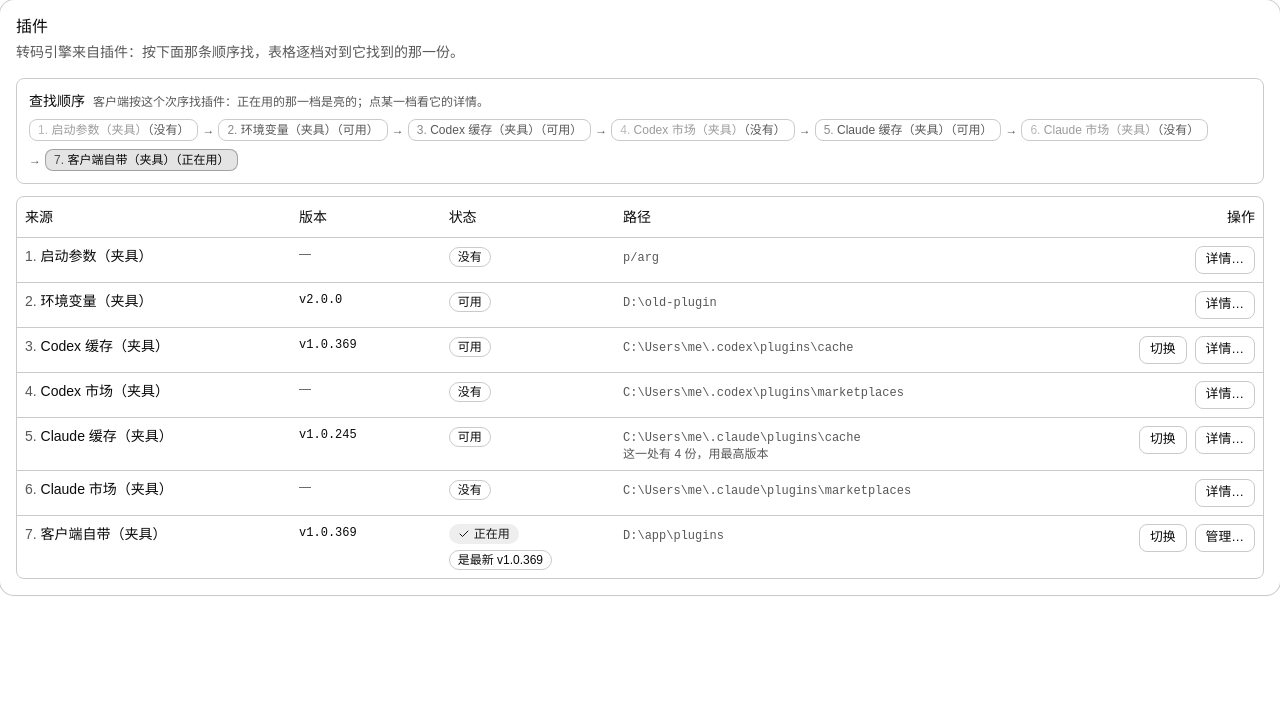
it: PluginCard › 「更新来源」在自带那一行的管理面板里，点「修改发布源」开的是插件这一半的弹窗
Click the button "管理…": point(1225, 538) [1195,524,1255,552]
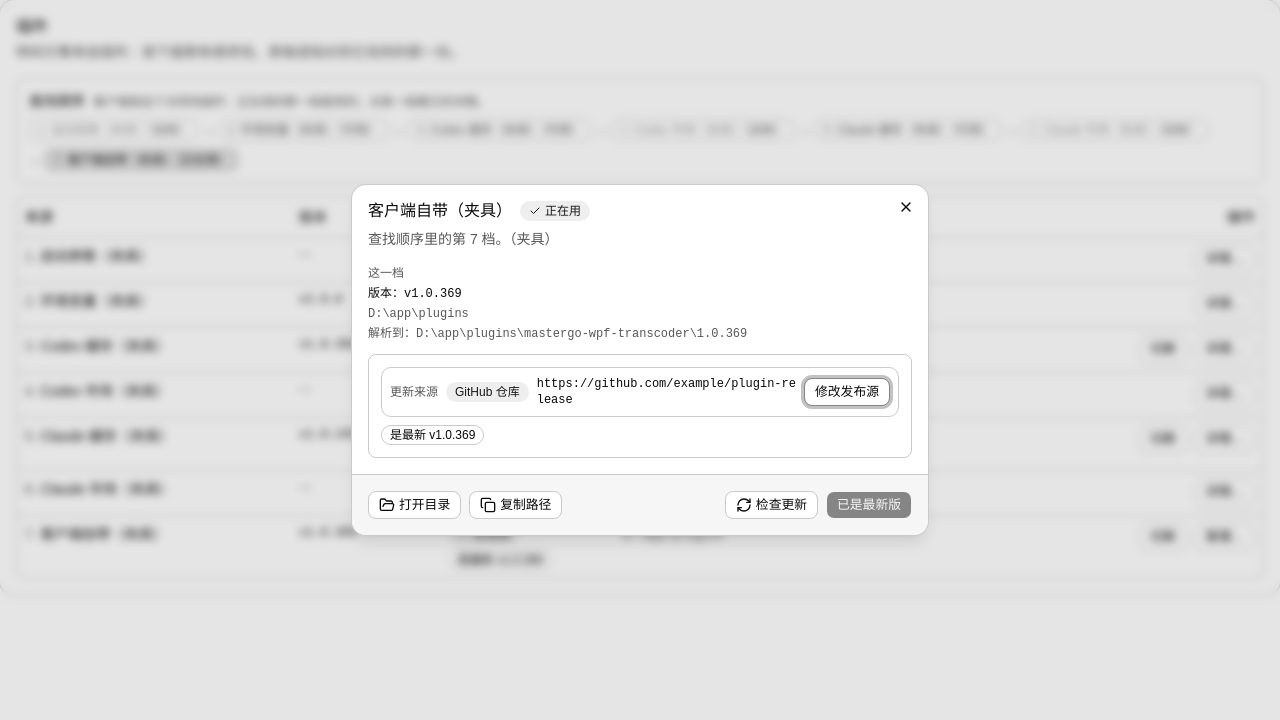
Click the button "修改发布源": point(847, 392) [804,378,890,406]
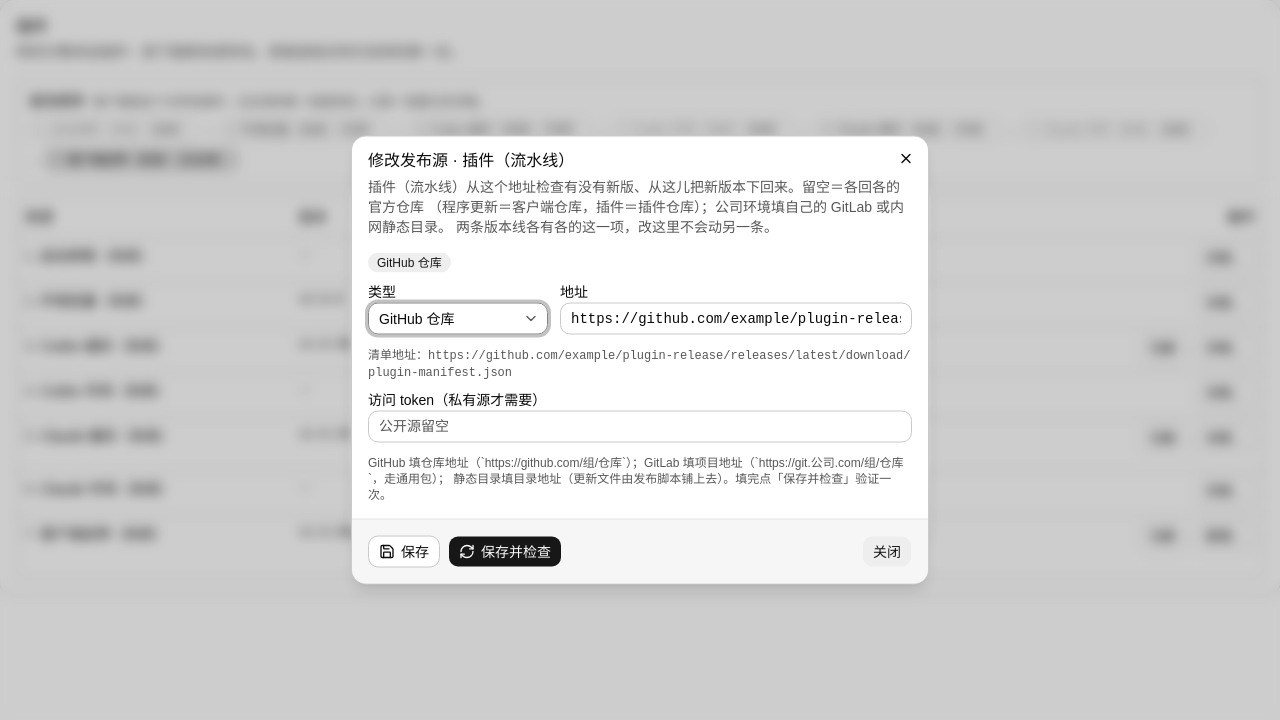
Expected: the field showing "https://github.com/example/plugin-release" is shown, [560,302,912,334]
Expected: the heading "修改发布源 · 插件（流水线）" is shown, [368,152,574,168]
